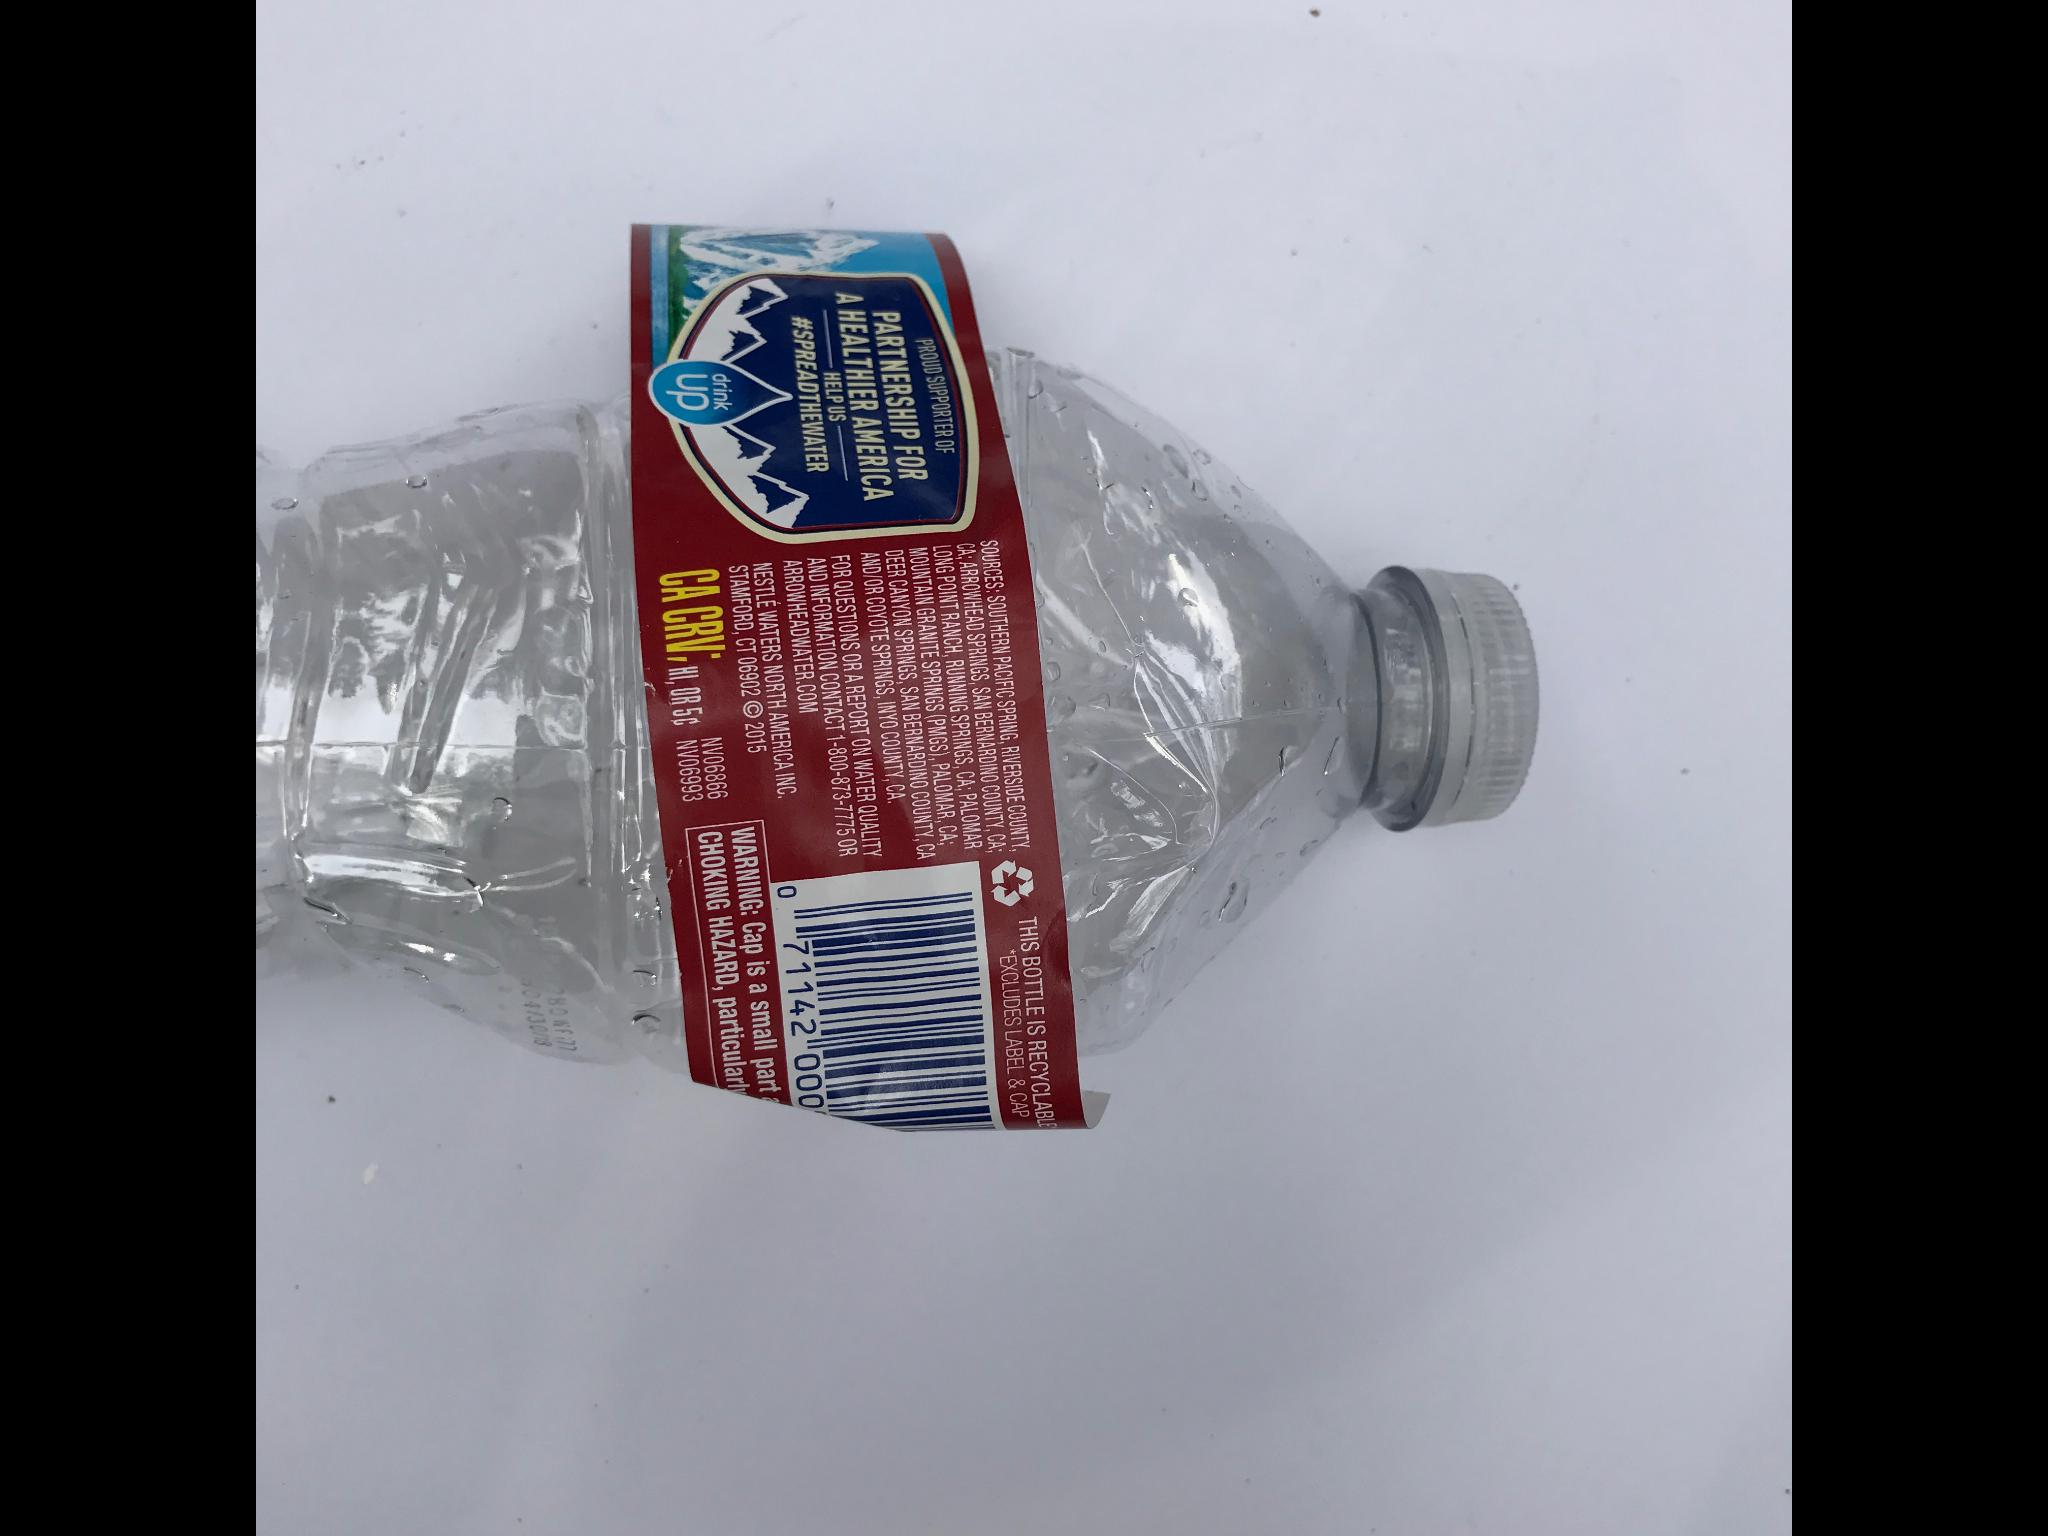Plastic: (256, 158, 1550, 1146)
